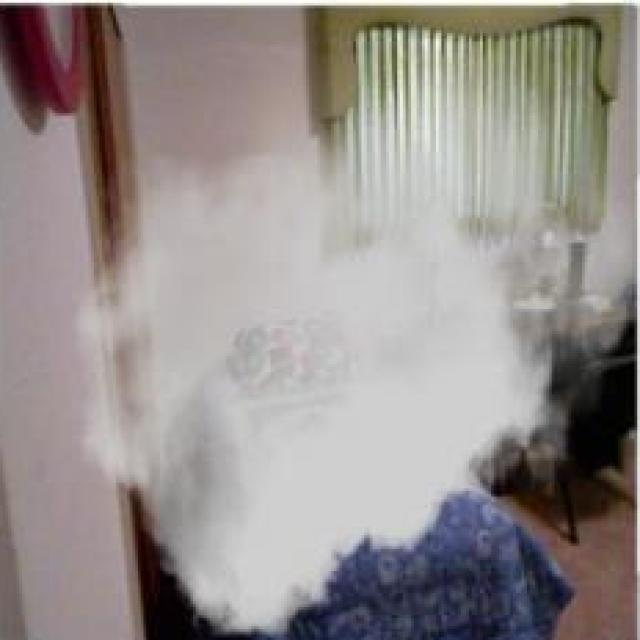fire: (72, 131, 554, 636)
